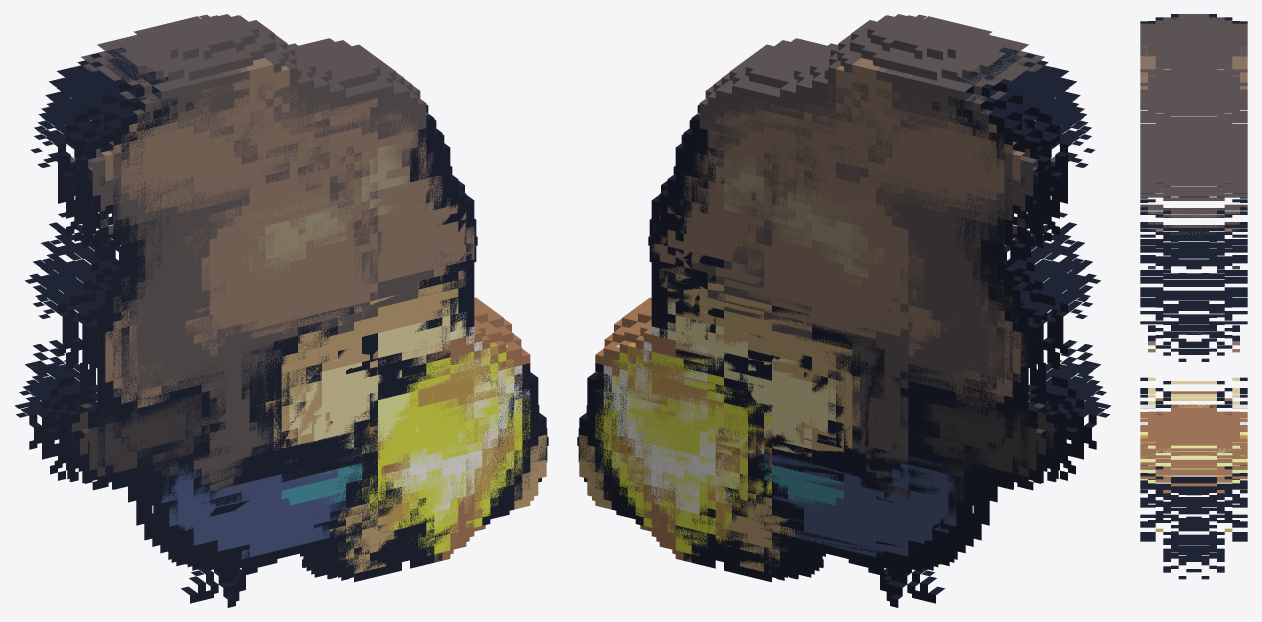
The model's file is carregando_ouro_parado.glb.
The picture shows the model from 3 angles, left to right: view 1: azimuth 30°, elevation 25°; view 2: azimuth 150°, elevation 25°; view 3: azimuth 270°, elevation 25°; orthographic projection. The views are drawn at different scales.
Visible parts, largest first — view 1: q0, q1, q2, q6, q5, q3, q7, q4; view 2: q0, q1, q2, q6, q3, q5, q4, q7; view 3: q2, q1, q3, q0, q6, q4, q5, q7.
Part boxes in pixels (bbox=[...]): q0: bbox=[33, 74, 538, 607]; q1: bbox=[49, 82, 548, 573]; q2: bbox=[49, 14, 547, 566]; q6: bbox=[22, 22, 513, 566]; q5: bbox=[30, 43, 513, 576]; q3: bbox=[49, 15, 538, 582]; q7: bbox=[15, 41, 529, 581]; q4: bbox=[33, 74, 521, 571]; q0: bbox=[587, 82, 1092, 607]; q1: bbox=[577, 81, 1076, 573]; q2: bbox=[578, 14, 1076, 578]; q6: bbox=[612, 22, 1103, 566]; q3: bbox=[587, 14, 1076, 581]; q5: bbox=[612, 44, 1095, 576]; q4: bbox=[607, 73, 1092, 570]; q7: bbox=[595, 34, 1110, 581]; q2: bbox=[1140, 35, 1247, 579]; q1: bbox=[1140, 55, 1247, 565]; q3: bbox=[1140, 39, 1247, 572]; q0: bbox=[1140, 72, 1247, 554]; q6: bbox=[1140, 14, 1247, 548]; q4: bbox=[1140, 55, 1247, 552]; q5: bbox=[1140, 61, 1247, 534]; q7: bbox=[1140, 17, 1247, 569].
Bounding box in the file's own units: 64 × 67 × 14.
Materials: 1 (1 with a texture image).
